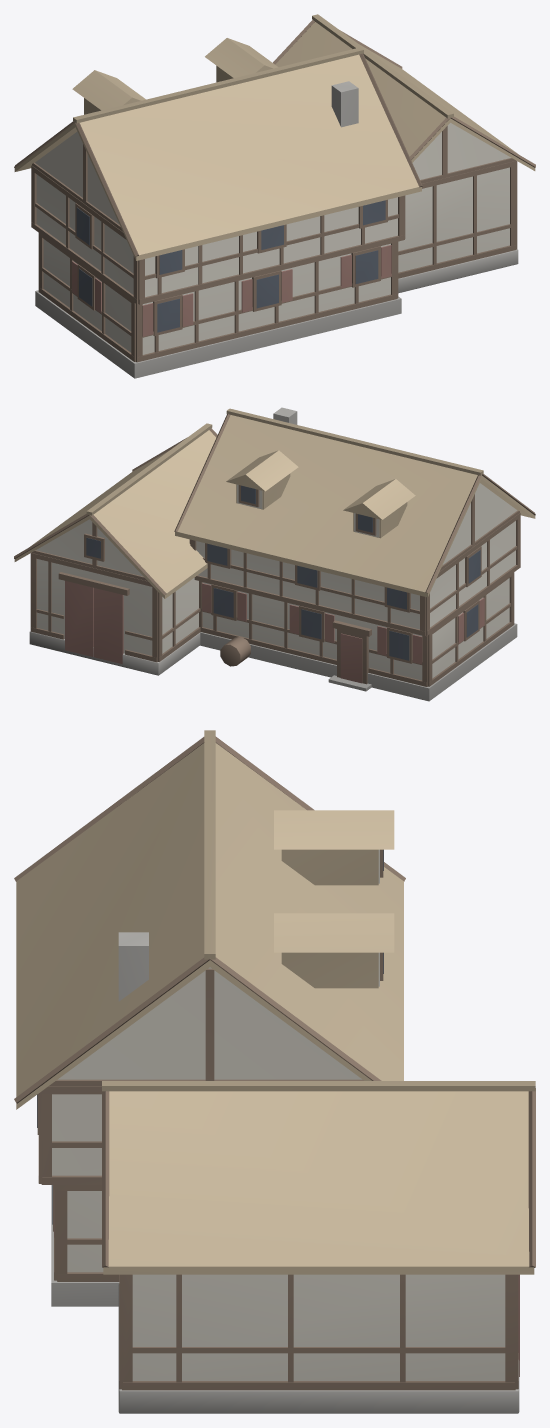
Rendered from farmhouse.gltf.
The picture shows the model from 3 angles, top to bottom: view 1: azimuth 30°, elevation 25°; view 2: azimuth 150°, elevation 25°; view 3: azimuth 270°, elevation 25°; orthographic projection. The views are drawn at different scales.
Visible parts, largest first — view 1: Body; view 2: Body; view 3: Body.
Boxes of the visible parts, x1,y1,x2,y2 form: Body: (14,14,535,378); Body: (14,407,535,701); Body: (14,730,535,1413).
Size of the model in its own units: 18.14 by 9.14 by 11.99.
